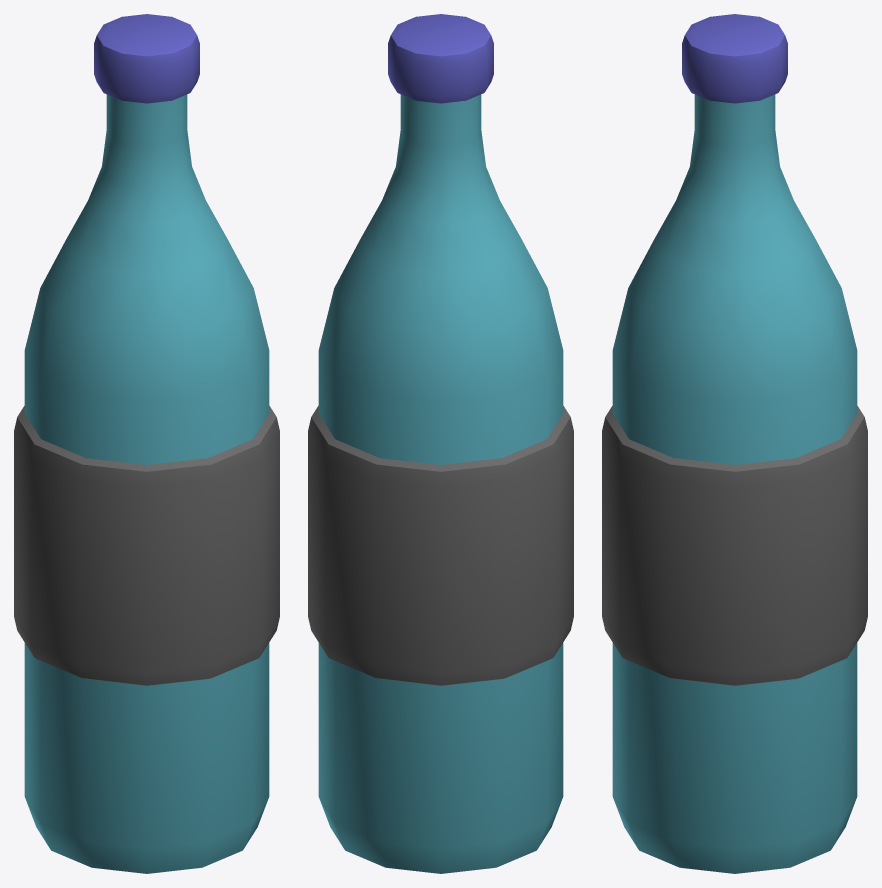
The model's file is SM_bottle_04.fbx.
3 renders of one model, left to right at view 1: azimuth 30°, elevation 25°; view 2: azimuth 150°, elevation 25°; view 3: azimuth 270°, elevation 25°, orthographic.
Visible parts, largest first — view 1: Cylinder024; view 2: Cylinder024; view 3: Cylinder024.
Boxes of the visible parts, x1,y1,x2,y2 form: Cylinder024: [14, 14, 279, 873]; Cylinder024: [308, 14, 573, 873]; Cylinder024: [602, 14, 867, 873].
Bounding box in the file's own units: 8.41 × 28.09 × 8.41.
